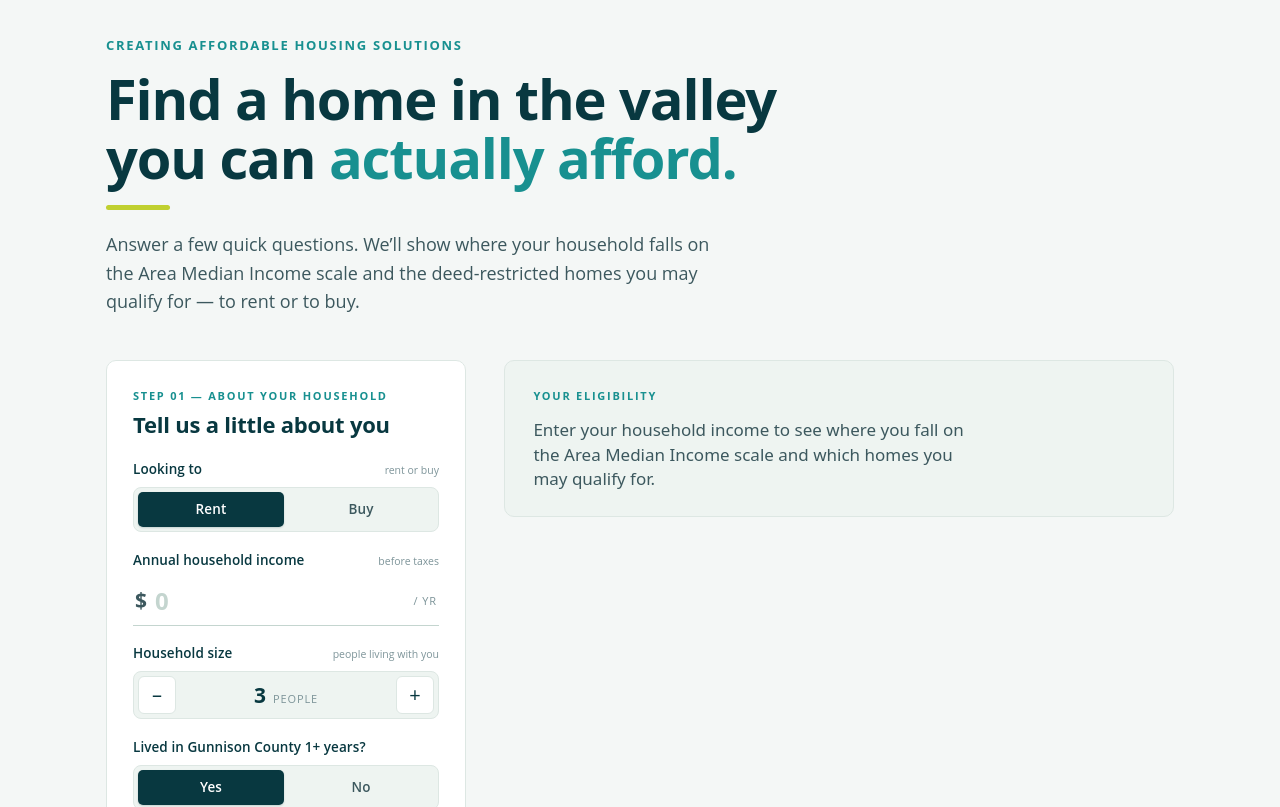
Test: Calculator form › displays matched listings as cards after a successful search
Step 1. Type "60000" into the field labelled "Annual household income before taxes" → [280, 600], box 155,584 -> 406,617
(page scrolled)
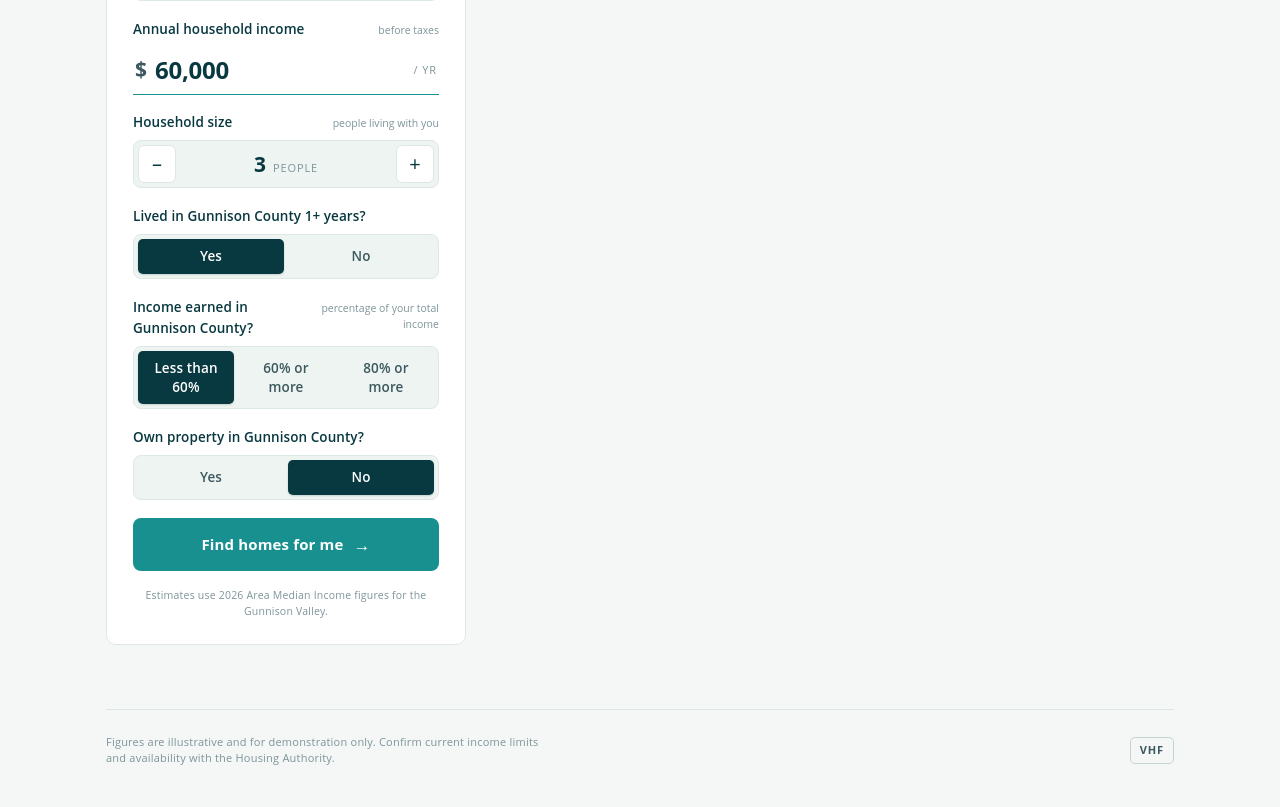
Step 2. Click the button "Find homes for me →" → [286, 544], box 133,518 -> 439,571
(page scrolled)
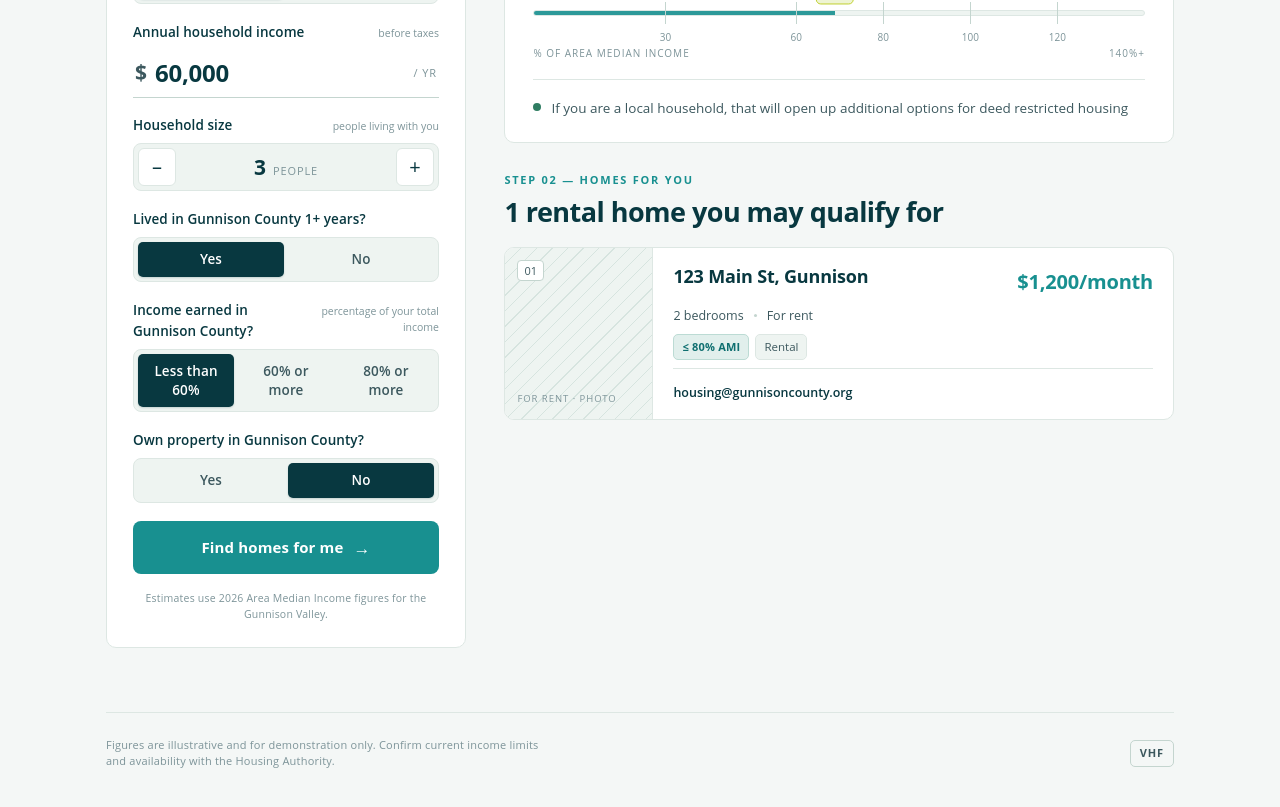
Now the heading "123 Main St, Gunnison" is shown, box 673,266 -> 868,287
Now the text "$1,200/month" is shown, box 1017,266 -> 1153,297
